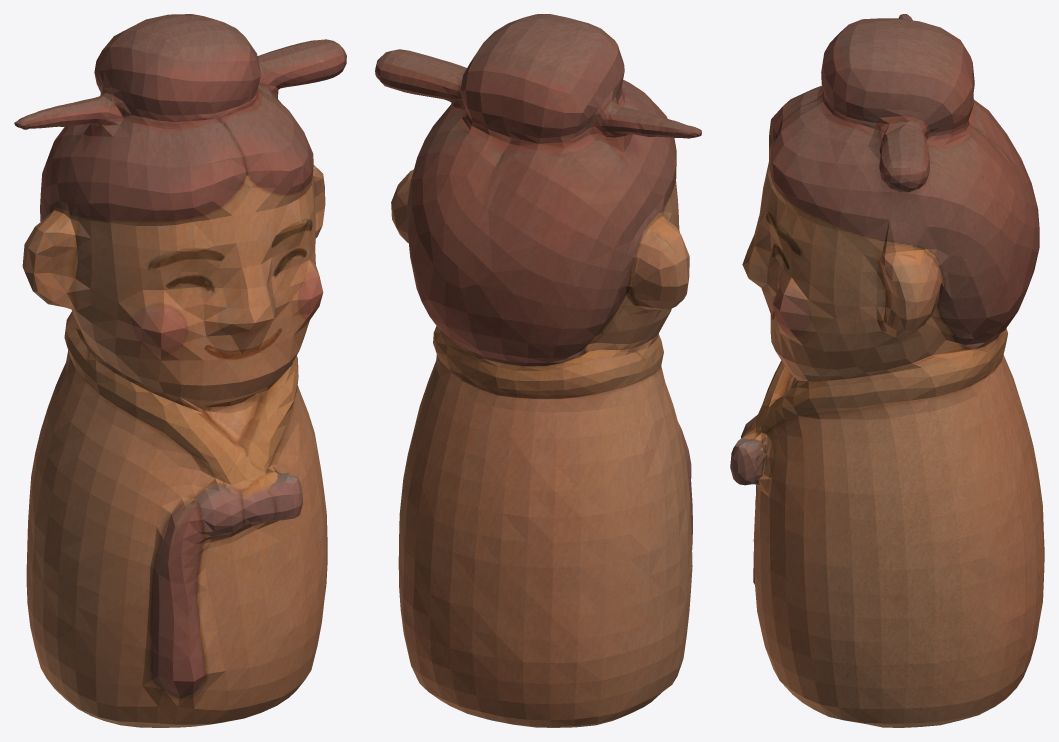
The model's file is Jangseung_000.fbx.
3 renders of one model, left to right at view 1: azimuth 30°, elevation 25°; view 2: azimuth 150°, elevation 25°; view 3: azimuth 270°, elevation 25°, orthographic.
Parts seen in each view (by area): view 1: Jangseung.000; view 2: Jangseung.000; view 3: Jangseung.000.
Boxes of the visible parts, box(x1,y1,x2,y2) form: Jangseung.000: box(14, 14, 346, 727); Jangseung.000: box(375, 14, 701, 727); Jangseung.000: box(730, 14, 1044, 727).
Bounding box in the file's own units: 49.75 × 96.33 × 41.92.
